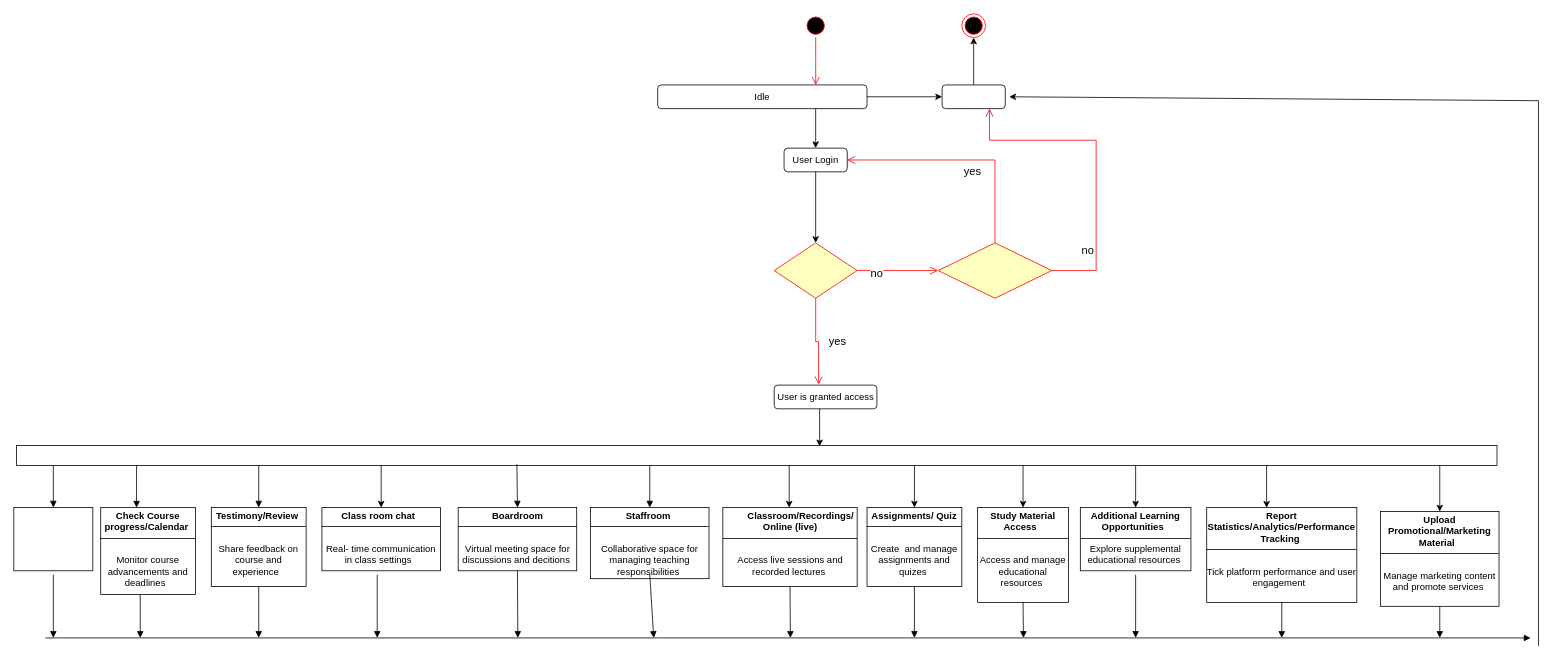
The diagram is 1559 pixels wide and 666 high, and some of its shapes have lost their labels. Here are the shapes that lost their labels. From the top down, the box of each, then its label:
(941, 84, 1005, 109): Exit
(773, 242, 857, 298): Is User Authorized
(937, 242, 1052, 298): Registor user
(13, 507, 93, 571): Anouncements View and create announcements
